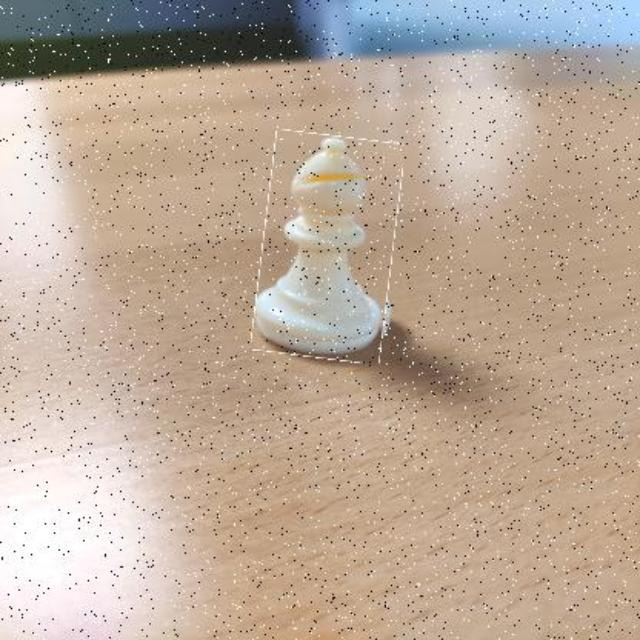white-bishop: (257, 132, 398, 361)
